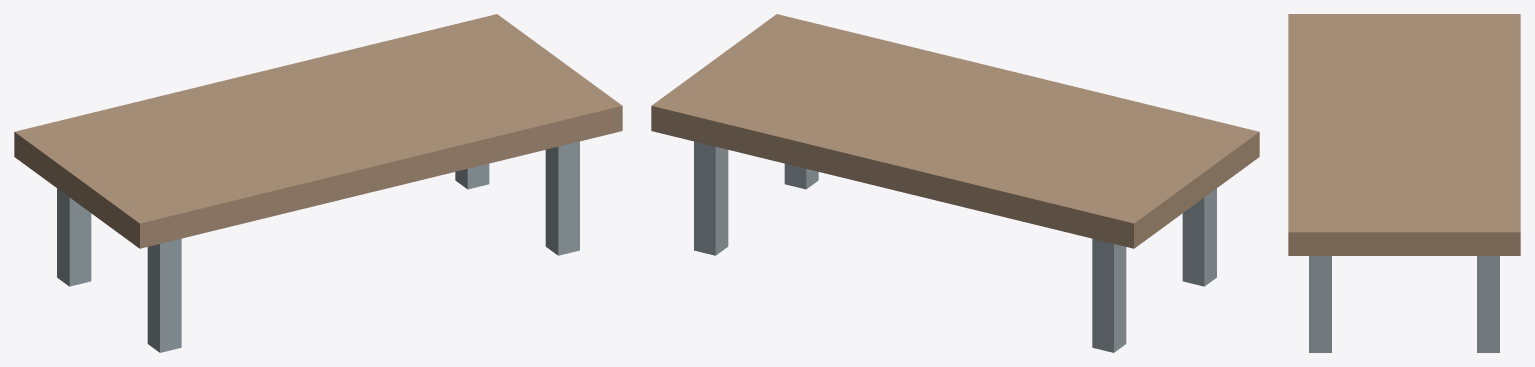
File: workbench_lod0.glb
The picture shows the model from 3 angles, left to right: view 1: azimuth 30°, elevation 25°; view 2: azimuth 150°, elevation 25°; view 3: azimuth 270°, elevation 25°; orthographic projection. The views are drawn at different scales.
Parts seen in each view (by area): view 1: workbench-node-0, workbench-node-3, workbench-node-4, workbench-node-1, workbench-node-2; view 2: workbench-node-0, workbench-node-1, workbench-node-2, workbench-node-3, workbench-node-4; view 3: workbench-node-0, workbench-node-2, workbench-node-4.
Boxes of the visible parts, left/top/right/bottom form: workbench-node-0: left=14, top=14, right=622, bottom=248; workbench-node-3: left=147, top=238, right=181, bottom=352; workbench-node-4: left=545, top=141, right=579, bottom=255; workbench-node-1: left=57, top=188, right=91, bottom=286; workbench-node-2: left=455, top=163, right=489, bottom=189; workbench-node-0: left=651, top=14, right=1259, bottom=248; workbench-node-1: left=1092, top=238, right=1126, bottom=352; workbench-node-2: left=694, top=141, right=728, bottom=255; workbench-node-3: left=1182, top=188, right=1216, bottom=286; workbench-node-4: left=784, top=163, right=818, bottom=189; workbench-node-0: left=1288, top=14, right=1520, bottom=255; workbench-node-2: left=1477, top=256, right=1499, bottom=352; workbench-node-4: left=1309, top=256, right=1331, bottom=352.
Bounding box in the file's own units: 4 × 1.15 × 1.8.
